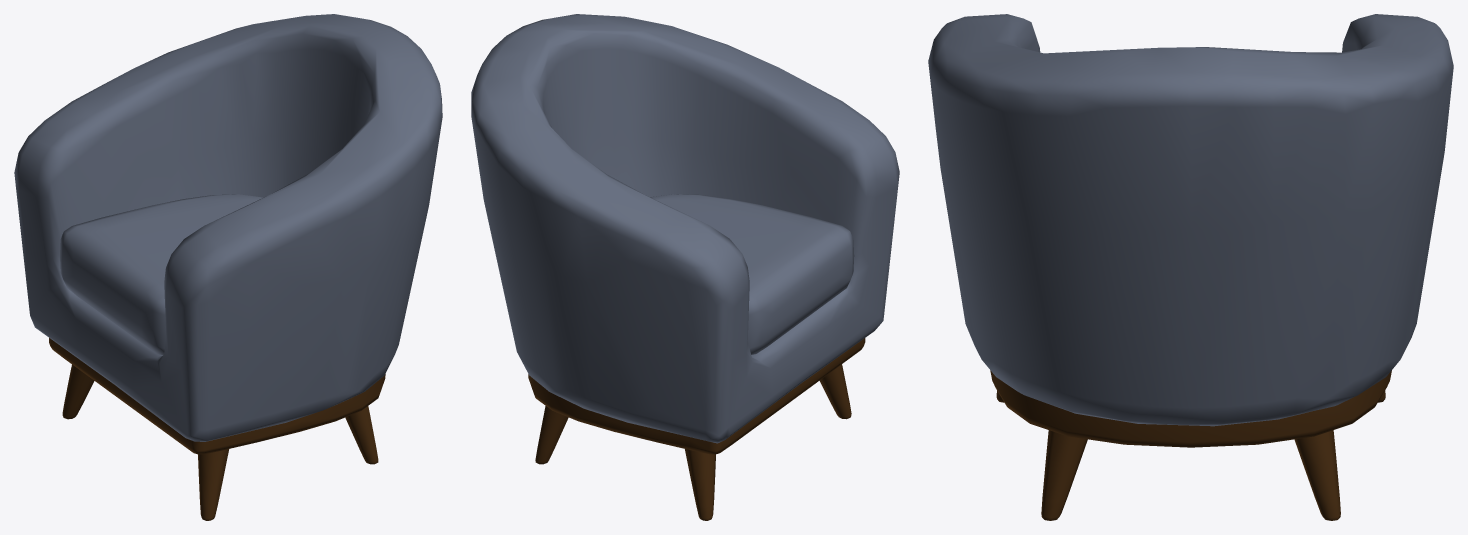
Rendered from armchair_06_gray.fbx.
3 views of the same model, side by side, from view 1: azimuth 30°, elevation 25°; view 2: azimuth 150°, elevation 25°; view 3: azimuth 270°, elevation 25° (orthographic). The views are drawn at different scales.
Parts seen in each view (by area): view 1: armchair_06_gray; view 2: armchair_06_gray; view 3: armchair_06_gray.
Boxes of the visible parts, left/top/right/bottom form: armchair_06_gray: left=14, top=14, right=442, bottom=520; armchair_06_gray: left=471, top=14, right=899, bottom=520; armchair_06_gray: left=928, top=14, right=1453, bottom=520.
Size of the model in its own units: 105 by 120 by 114.
Materials: 2 (2 with a texture image).
